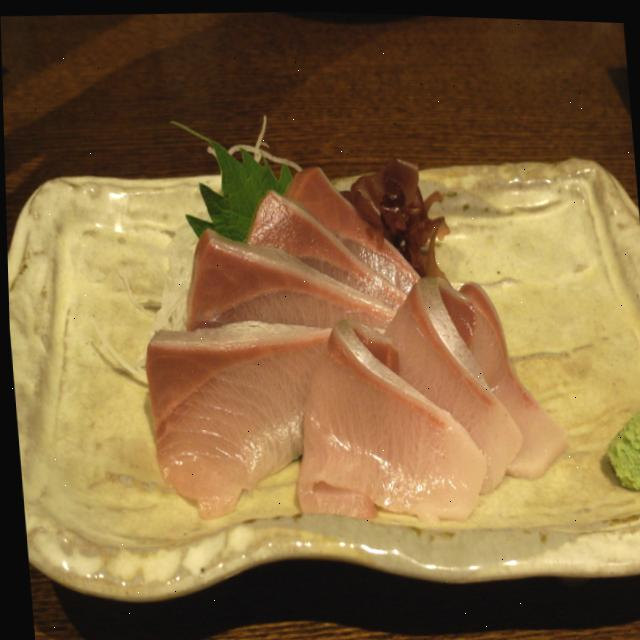刺身生食: (113, 70, 568, 614)
